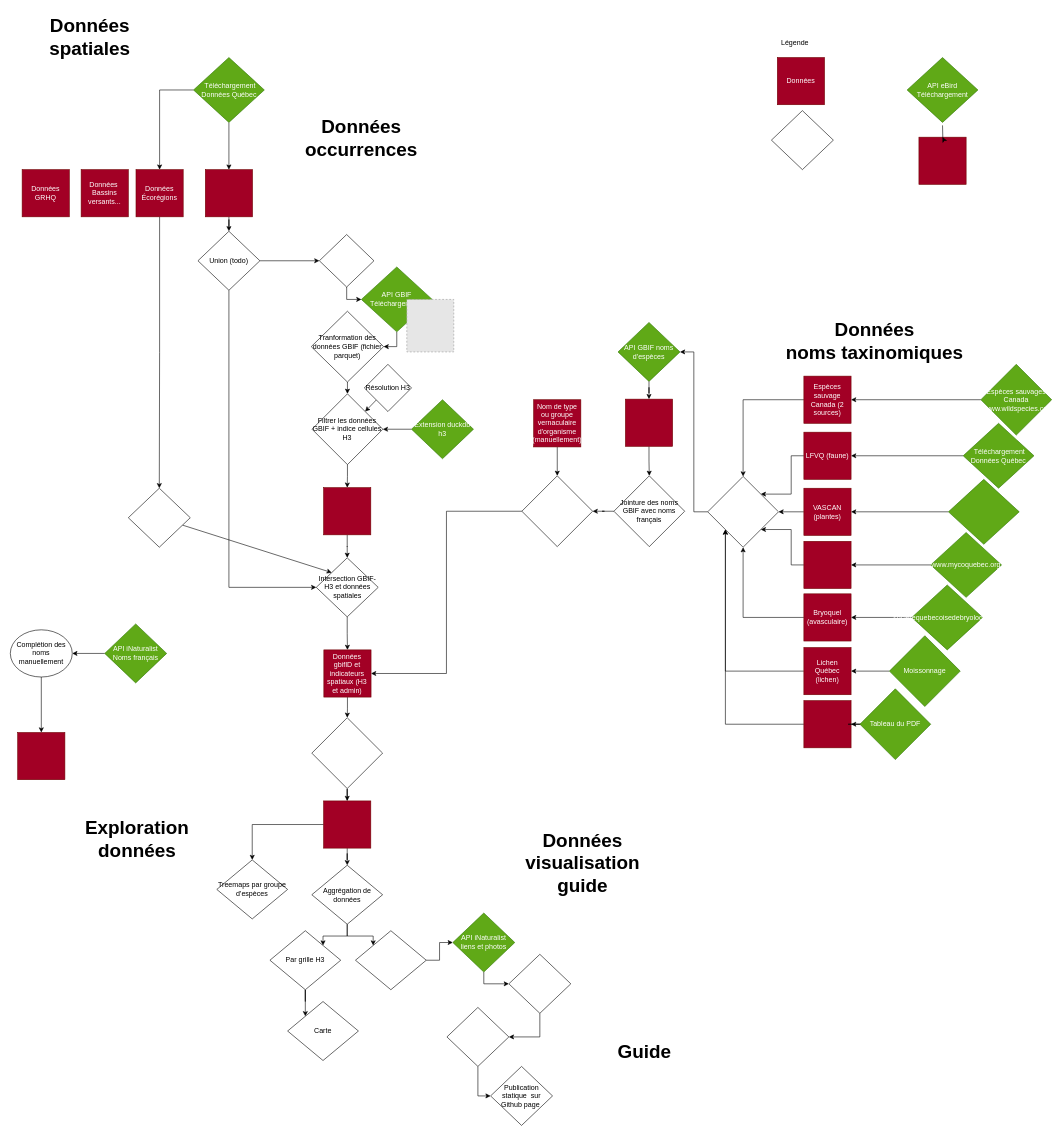
The diagram is 1062 pixels wide and 1136 high, and some of its shapes have lost their labels. Grey dashed boxes stand in for pictures. The shapes that lost their labels are listed below. From the top down, each one's centre as x and y in pixels, then its label:
At pixel 802 140: "Opération".
At pixel 942 160: "Données eBird points chauds".
At pixel 229 193: "Données admin".
At pixel 346 260: "Polygone admin filtre".
At pixel 649 422: "Espèces GBIF".
At pixel 159 517: "Extraction pour le Québec Niveau XXX".
At pixel 347 511: "Données GBIF prêt pour recoupage spatial".
At pixel 557 511: "Standardisation des noms".
At pixel 743 511: "Jointure et coalescence".
At pixel 983 511: "Canadensys".
At pixel 827 565: "Mycoliste (fungi)".
At pixel 827 724: "Liste des oiseaux du Québec (Québec-Oiseaux)".
At pixel 41 756: "Données noms d'espèces et type d'organismes".
At pixel 347 753: "Standardisation des noms d'espèces GBIF".
At pixel 347 824: "Données GBIF prêt pour analyses".
At pixel 390 960: "Par région Admin".
At pixel 539 983: "Réduire taille photos".
At pixel 477 1036: "Formatter le guide".
